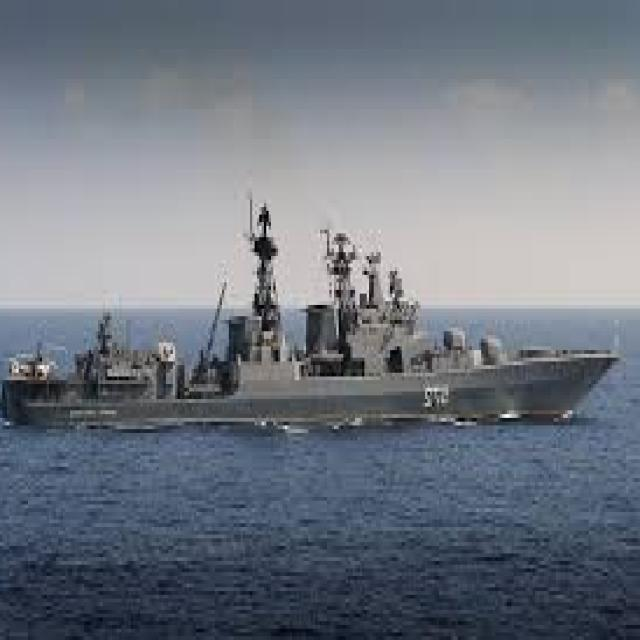navalvessels: (0, 151, 619, 463)
